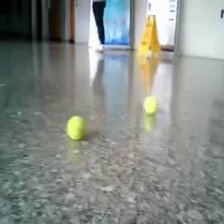tennis: (66, 116, 87, 140), (143, 96, 158, 114)
